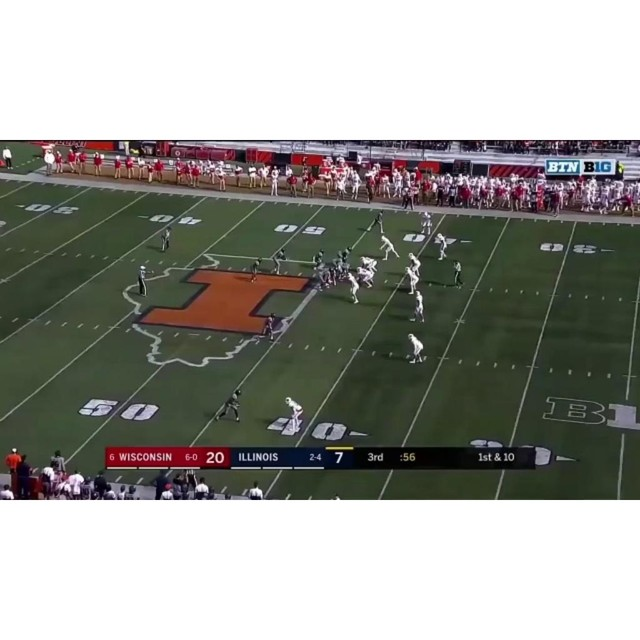american-football-player: (216, 389, 242, 422), (285, 397, 304, 433), (380, 232, 399, 261), (408, 332, 425, 364), (346, 272, 361, 304), (411, 290, 425, 322), (406, 265, 420, 295), (368, 210, 385, 234), (358, 266, 375, 289), (435, 232, 448, 261), (311, 248, 325, 271), (420, 210, 432, 236)
referee: (135, 264, 148, 297), (453, 259, 463, 288), (160, 227, 171, 253)
